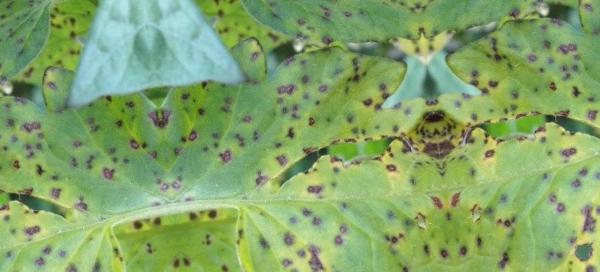Tomato Septoria leaf spot: (156, 20, 469, 272), (206, 0, 422, 61)
